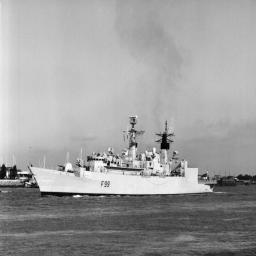Fragata: (30, 112, 218, 202)
